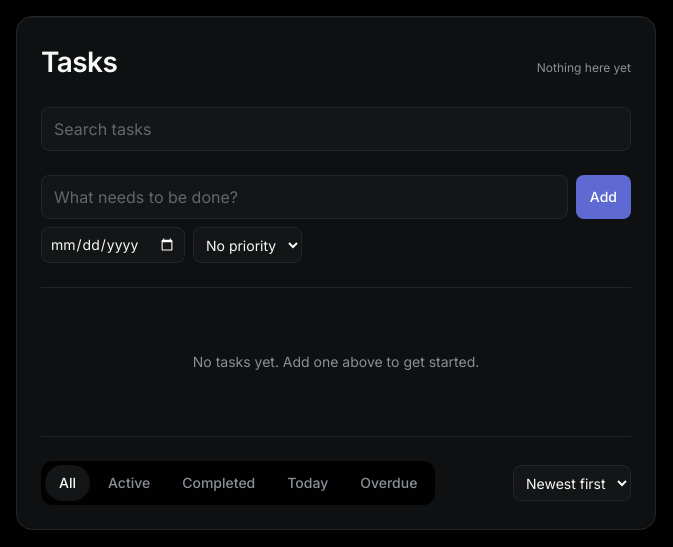
Test: todo app › edits a task by clicking its text
Type "Draft report" into the field named "New task" at (304, 197), box 41,175 -> 568,219
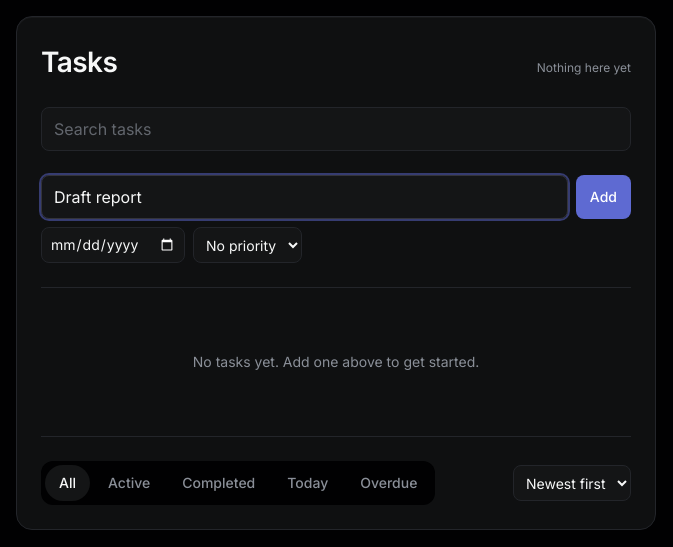
Click the button "Add" at (603, 197), box 576,175 -> 631,219
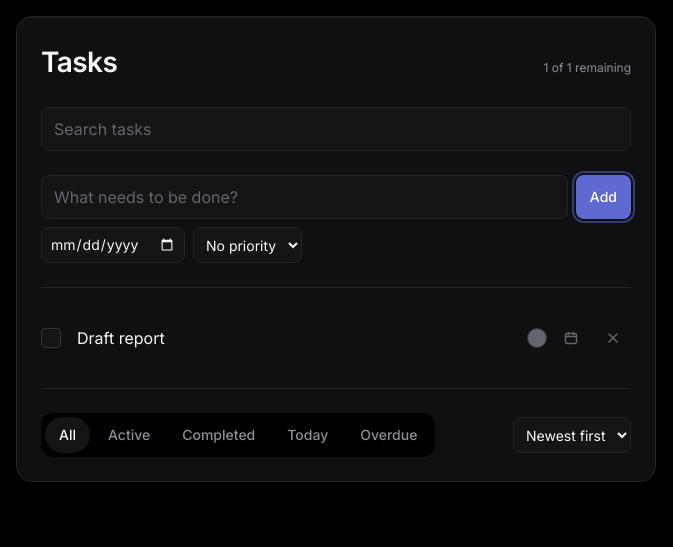
Click the button "Draft report" at (121, 338), box 69,320 -> 519,356
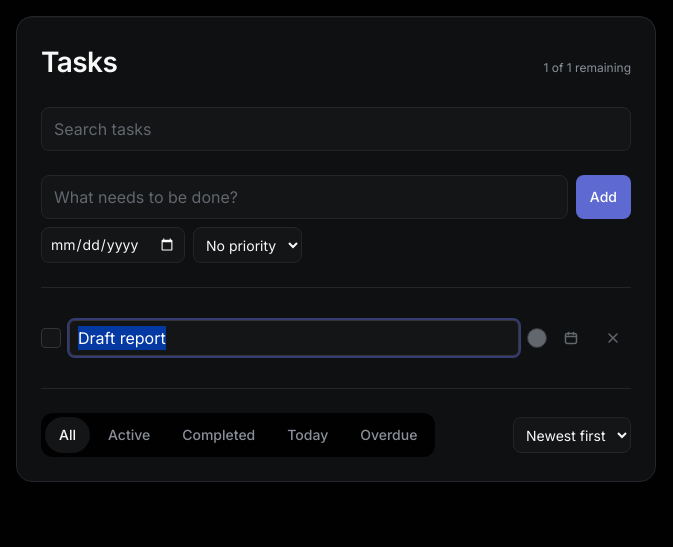
Replace the text in the field named "Edit \"Draft report\"" with "Send report" at (294, 338), box 69,320 -> 519,356
Then press Enter
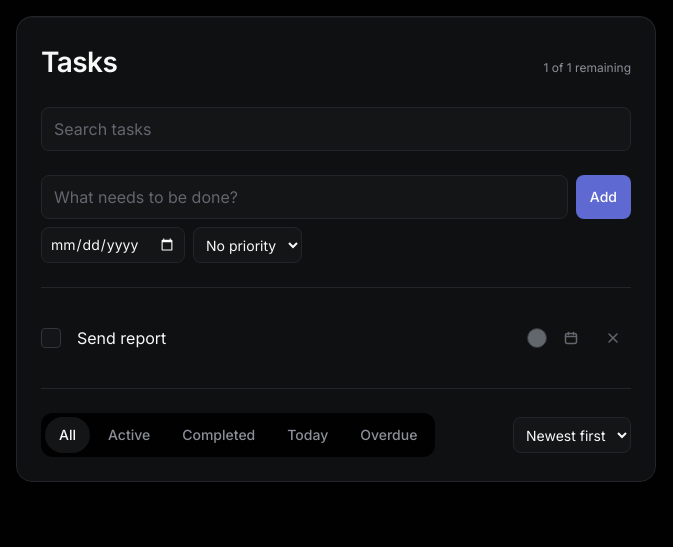
Check: the button "Draft report" is not shown
Check: the button "Send report" is shown, box 69,320 -> 519,356
